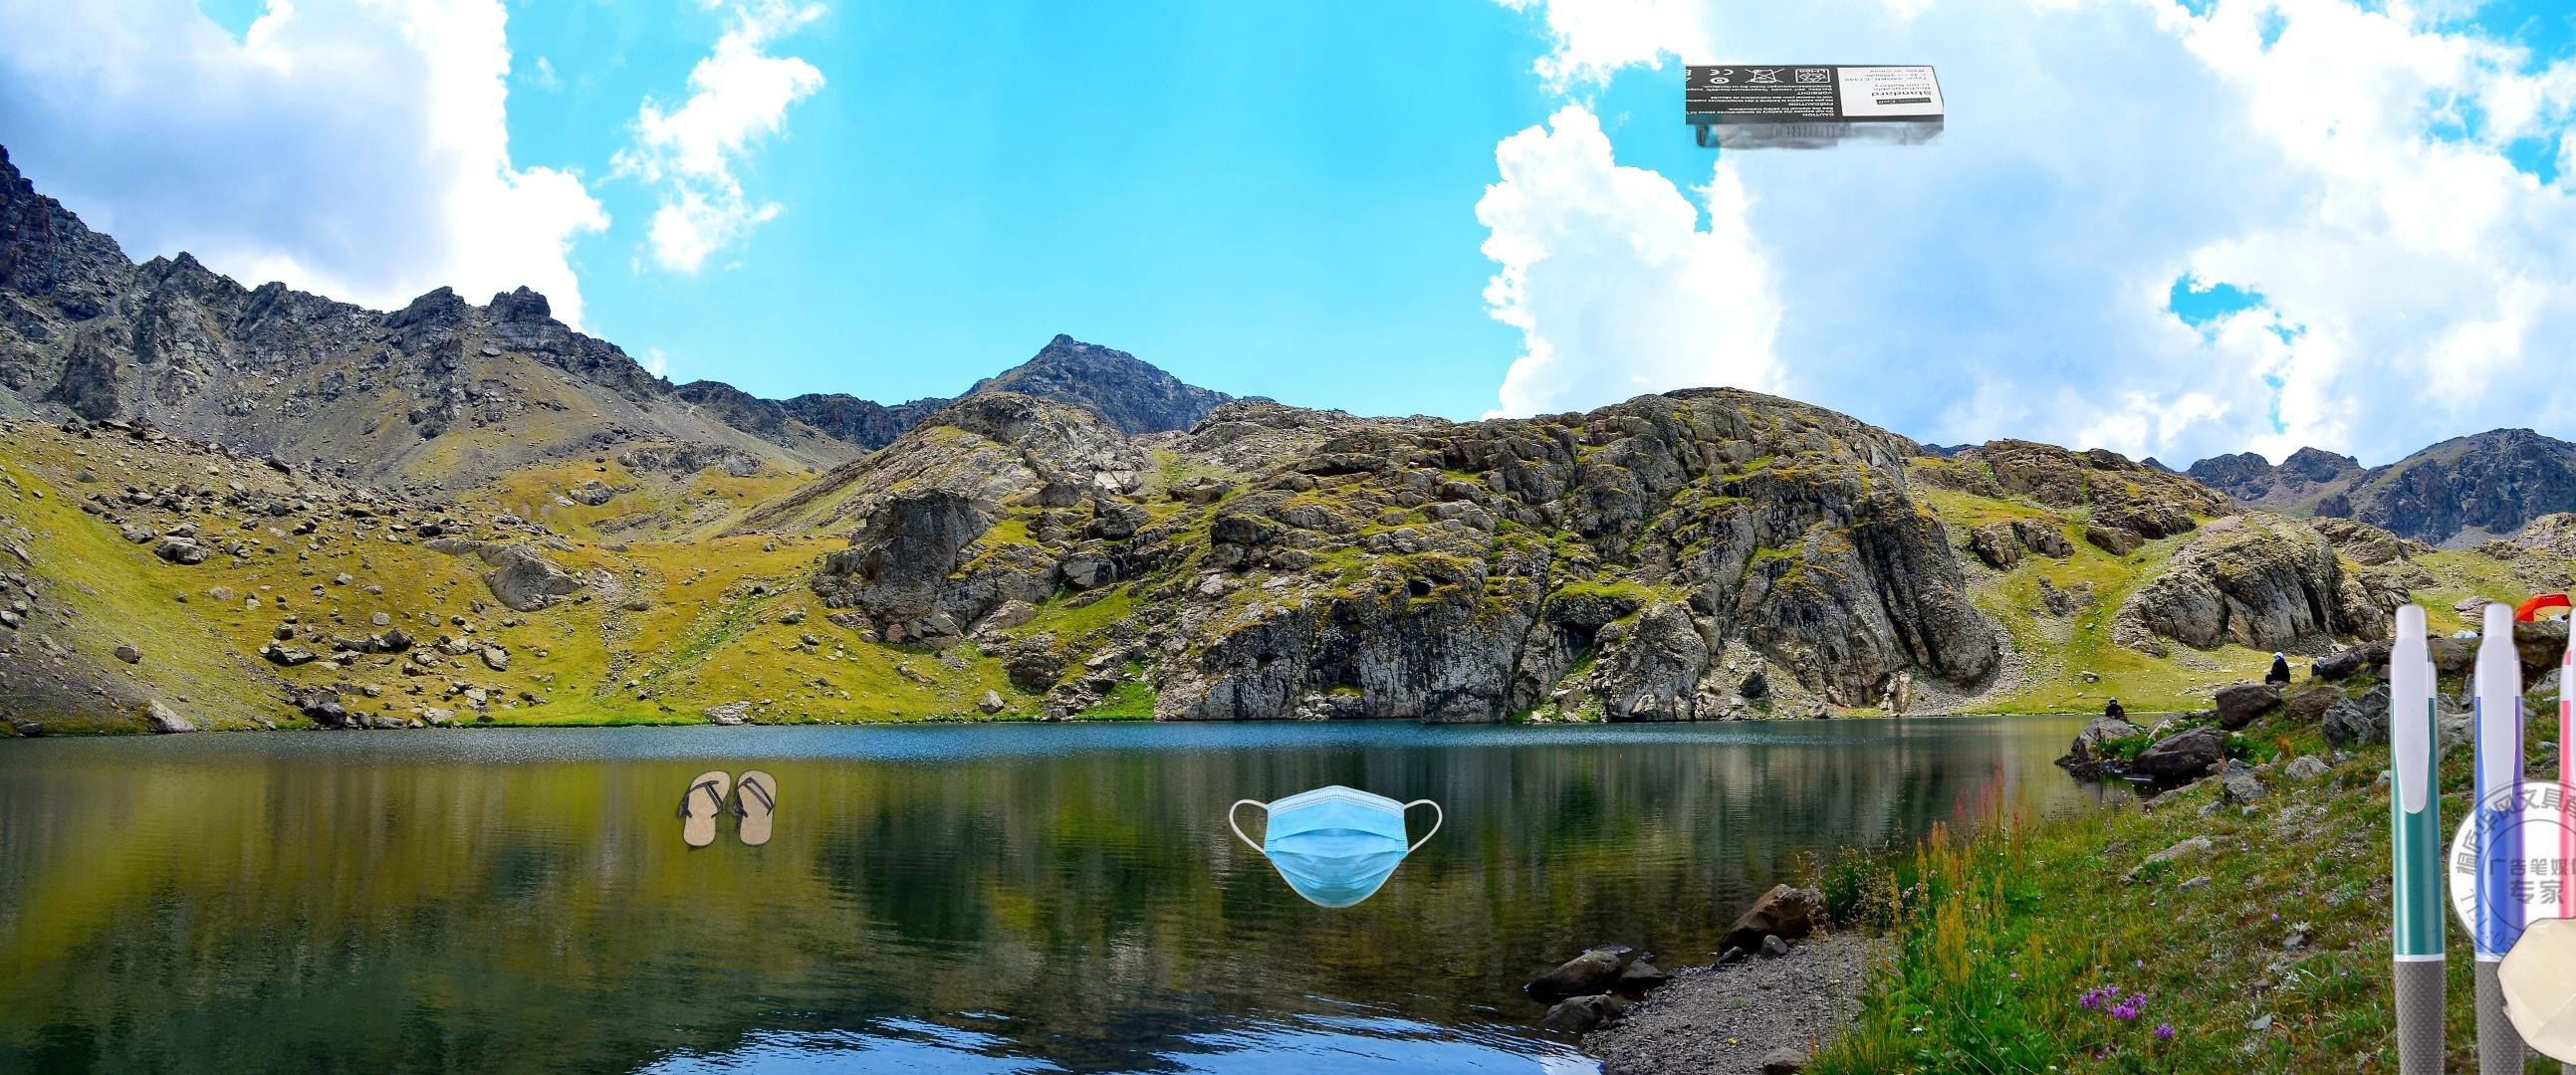battery: (1686, 62, 1943, 205)
penholder: (2382, 594, 2576, 1075), (2190, 1050, 2576, 1075)
plastic-bottles: (2491, 909, 2576, 1075)
shoes: (670, 768, 780, 853)
trash: (1226, 783, 1446, 911)
